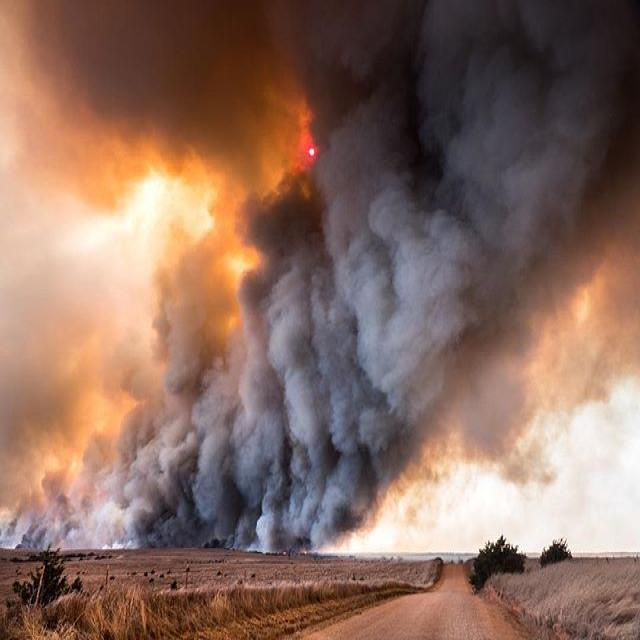Smoke: (21, 22, 614, 543)
